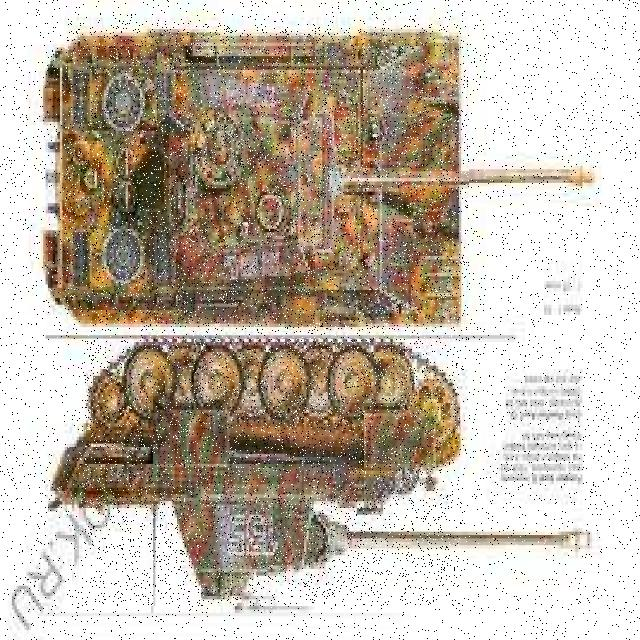MIL_MBT: (65, 24, 468, 330), (81, 339, 461, 606)
